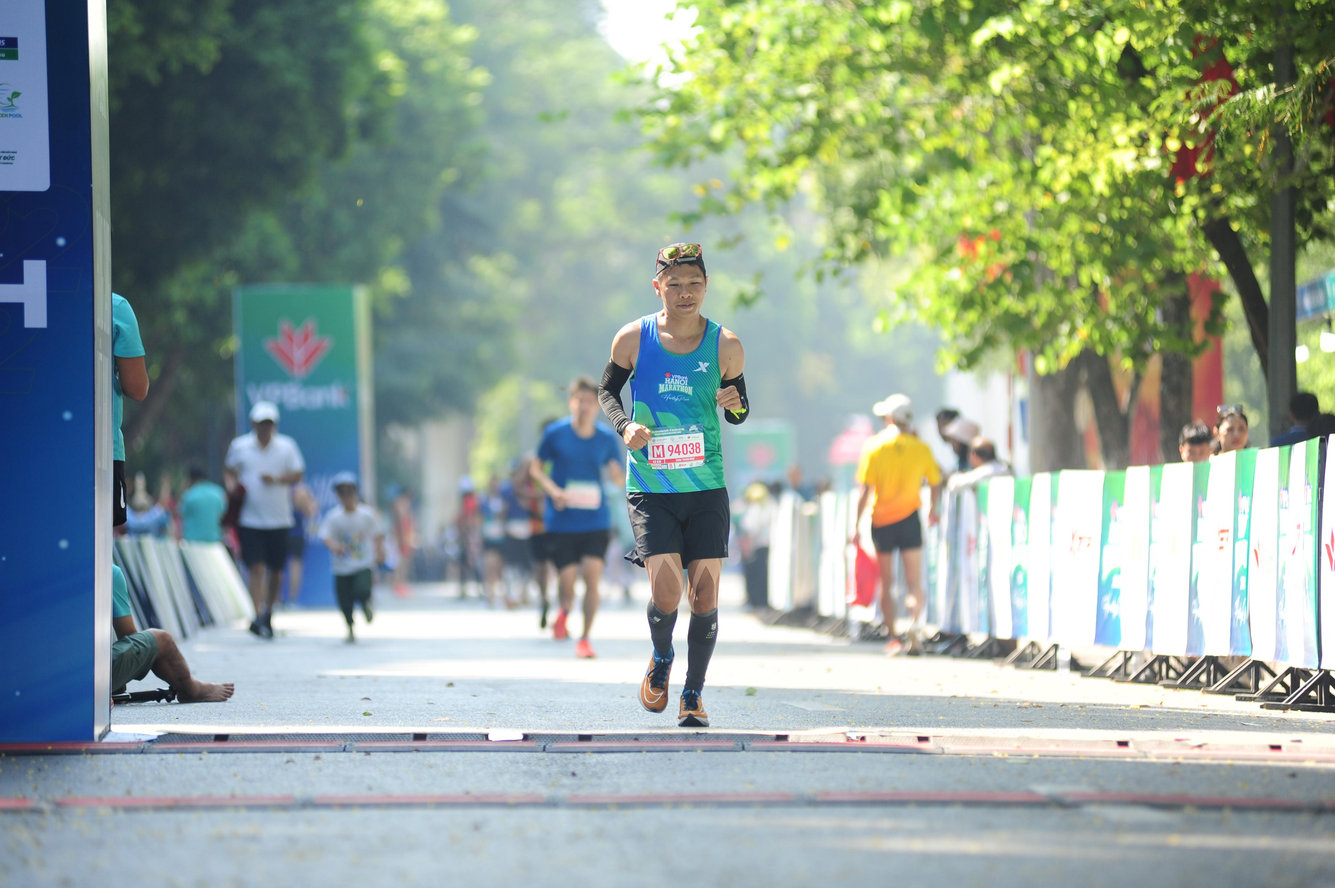bib: (648, 425, 705, 469), (563, 478, 601, 509)
